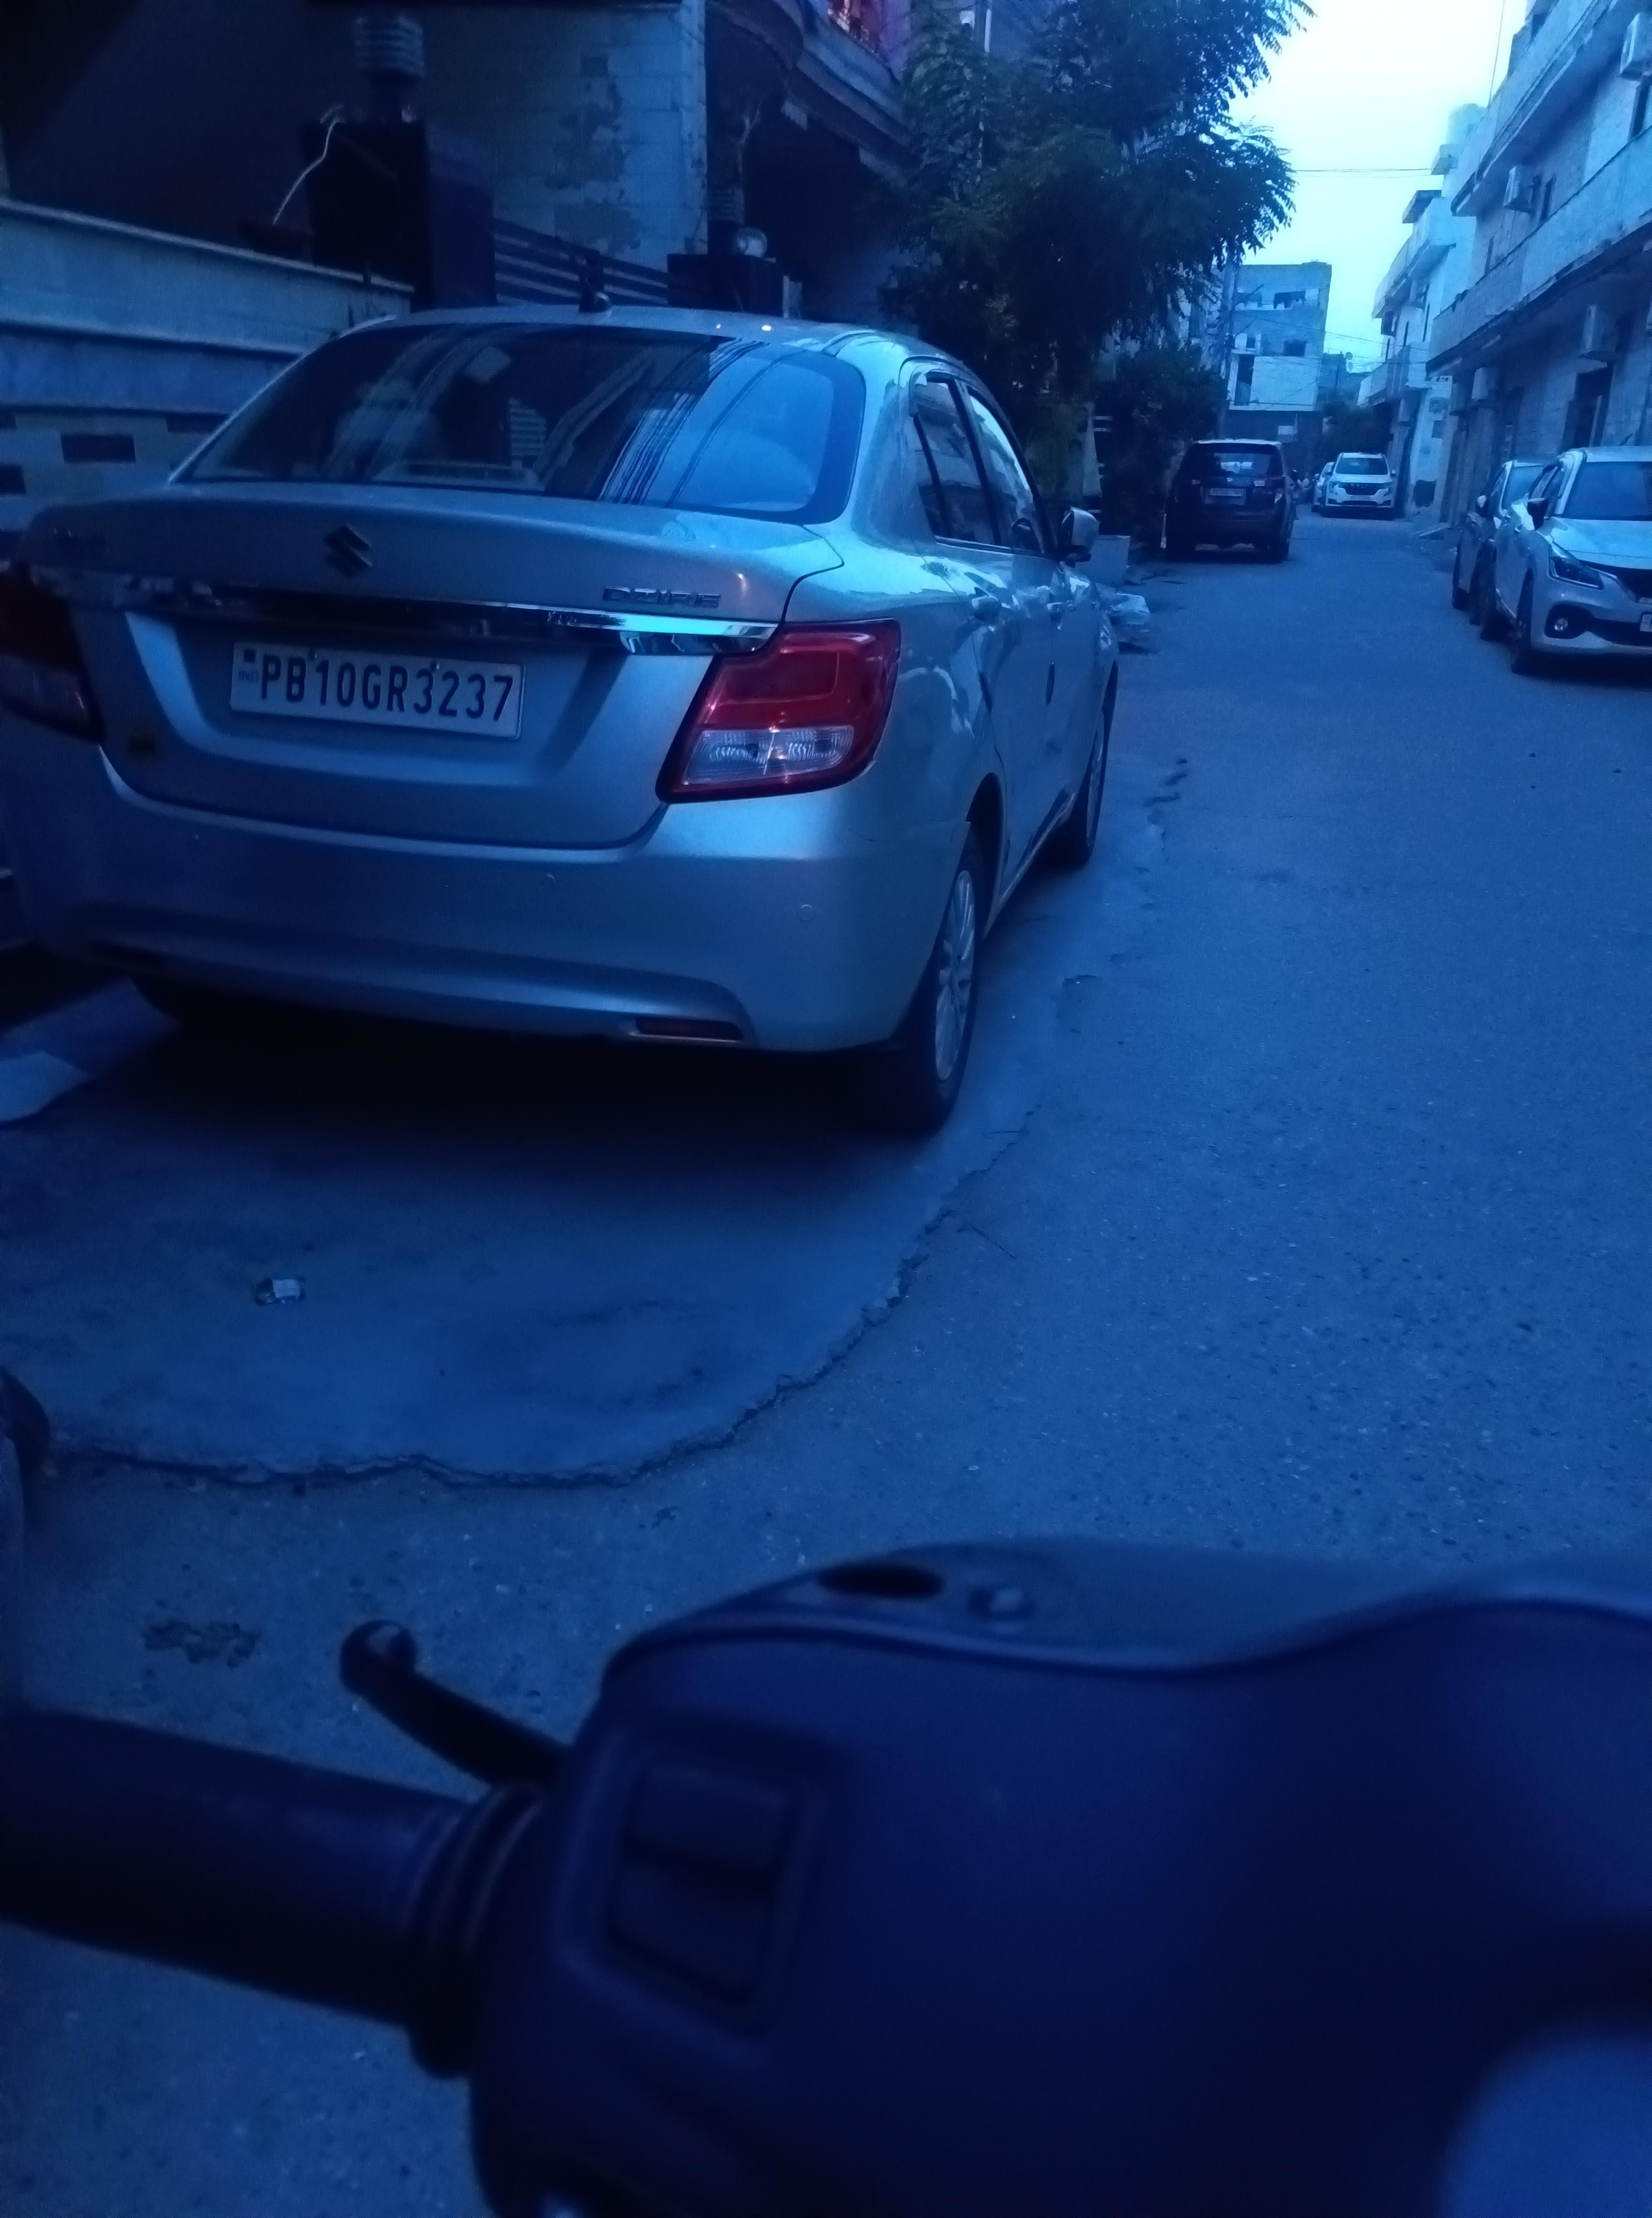license_plate: (201, 613, 563, 742)
